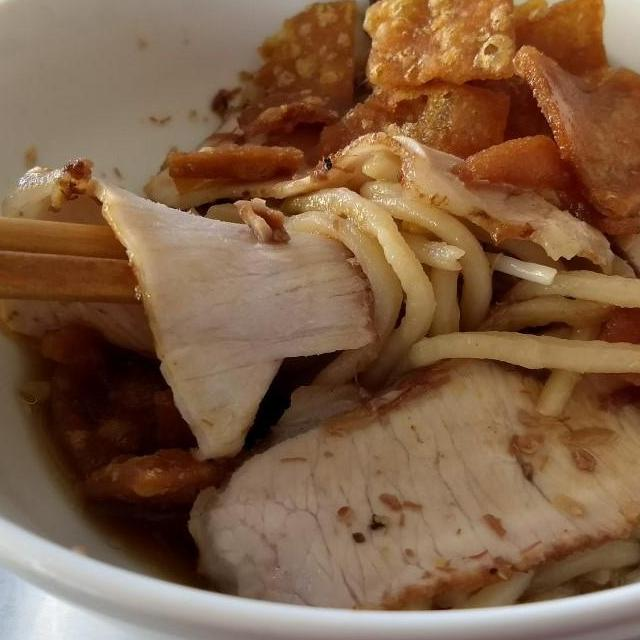banh da: (157, 0, 381, 187), (288, 77, 520, 196), (503, 39, 640, 225), (476, 0, 624, 148), (357, 0, 525, 92), (592, 221, 640, 480)
mi: (200, 149, 640, 416)
mi quang: (0, 19, 640, 640)
thit heo: (182, 348, 640, 630), (0, 153, 381, 466), (140, 122, 622, 278)
